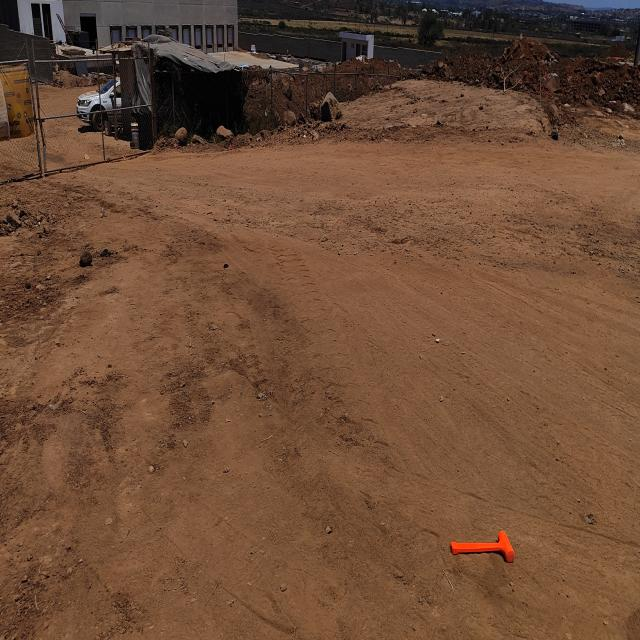Orange_hammer: (449, 529, 515, 564)
